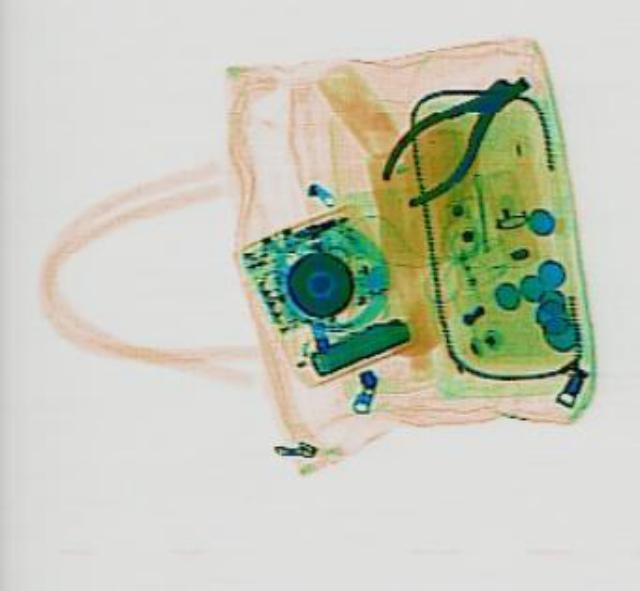Pliers: (360, 48, 548, 213)
